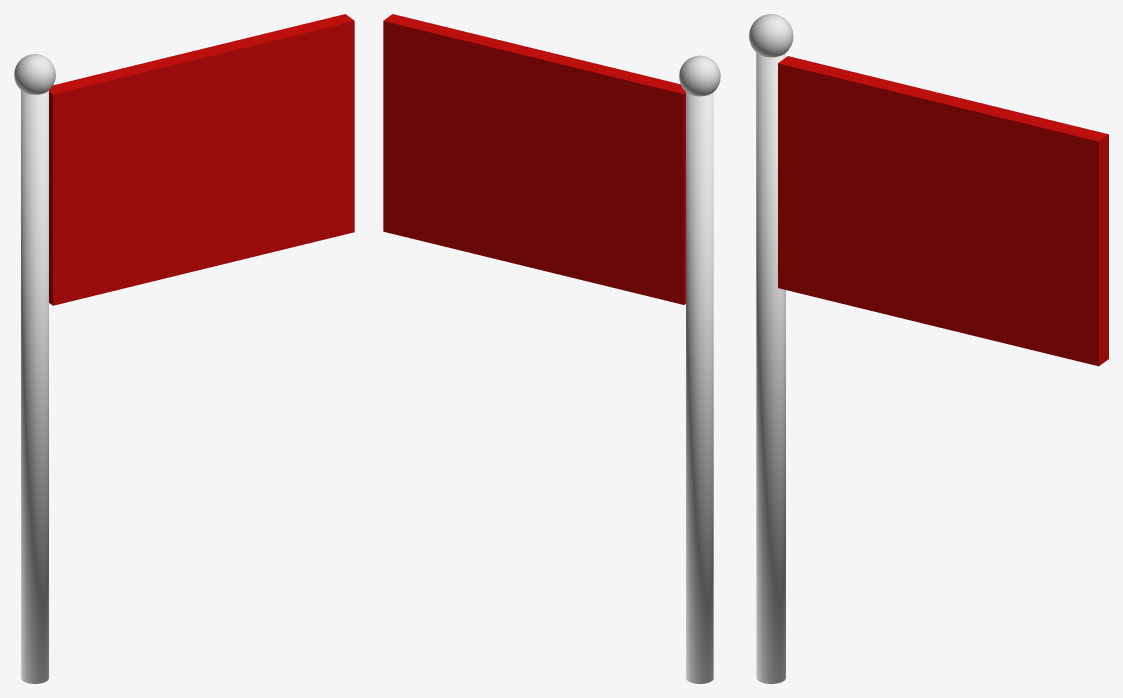
File: Hata.fbx
3 views of the same model, side by side, from view 1: azimuth 30°, elevation 25°; view 2: azimuth 150°, elevation 25°; view 3: azimuth 330°, elevation 25° (orthographic). The views are drawn at different scales.
Visible parts, largest first — view 1: 立方体, 円柱, 球; view 2: 立方体, 円柱, 球; view 3: 立方体, 円柱, 球.
Part boxes in pixels (x1=…): 立方体: x1=49, y1=14, x2=354, y2=305; 円柱: x1=21, y1=90, x2=48, y2=683; 球: x1=14, y1=54, x2=55, y2=94; 立方体: x1=383, y1=14, x2=685, y2=304; 円柱: x1=686, y1=92, x2=713, y2=683; 球: x1=679, y1=55, x2=720, y2=96; 立方体: x1=778, y1=56, x2=1108, y2=366; 円柱: x1=756, y1=53, x2=785, y2=683; 球: x1=749, y1=14, x2=793, y2=57.
Size of the model in its own units: 550 by 985 by 60.
